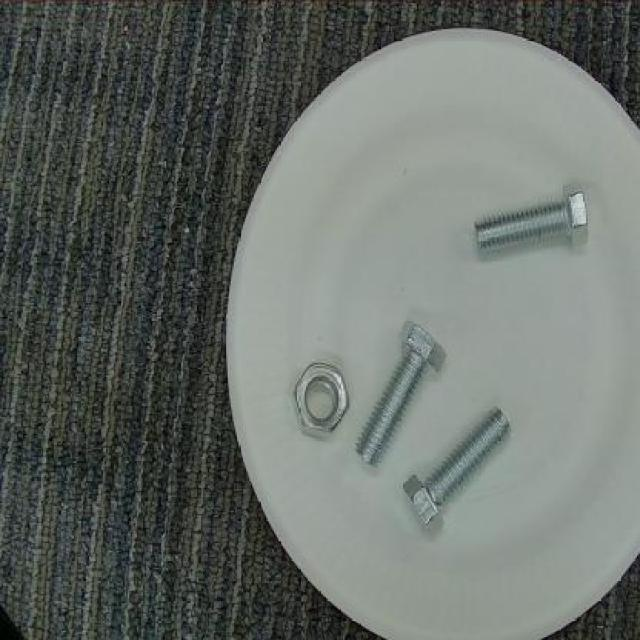Bolt: (354, 316, 451, 476), (402, 403, 517, 535), (470, 184, 591, 258)
Nut: (292, 357, 349, 441)
